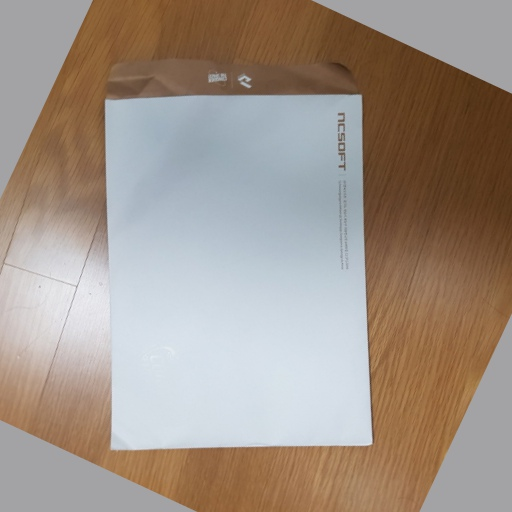Paper_2: (97, 60, 385, 460)
